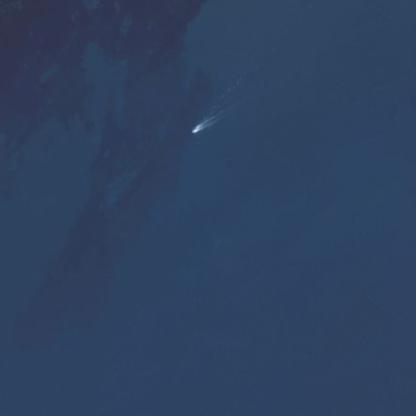ship: (22, 124, 35, 135)
